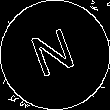N_S: (28, 25, 82, 85)
